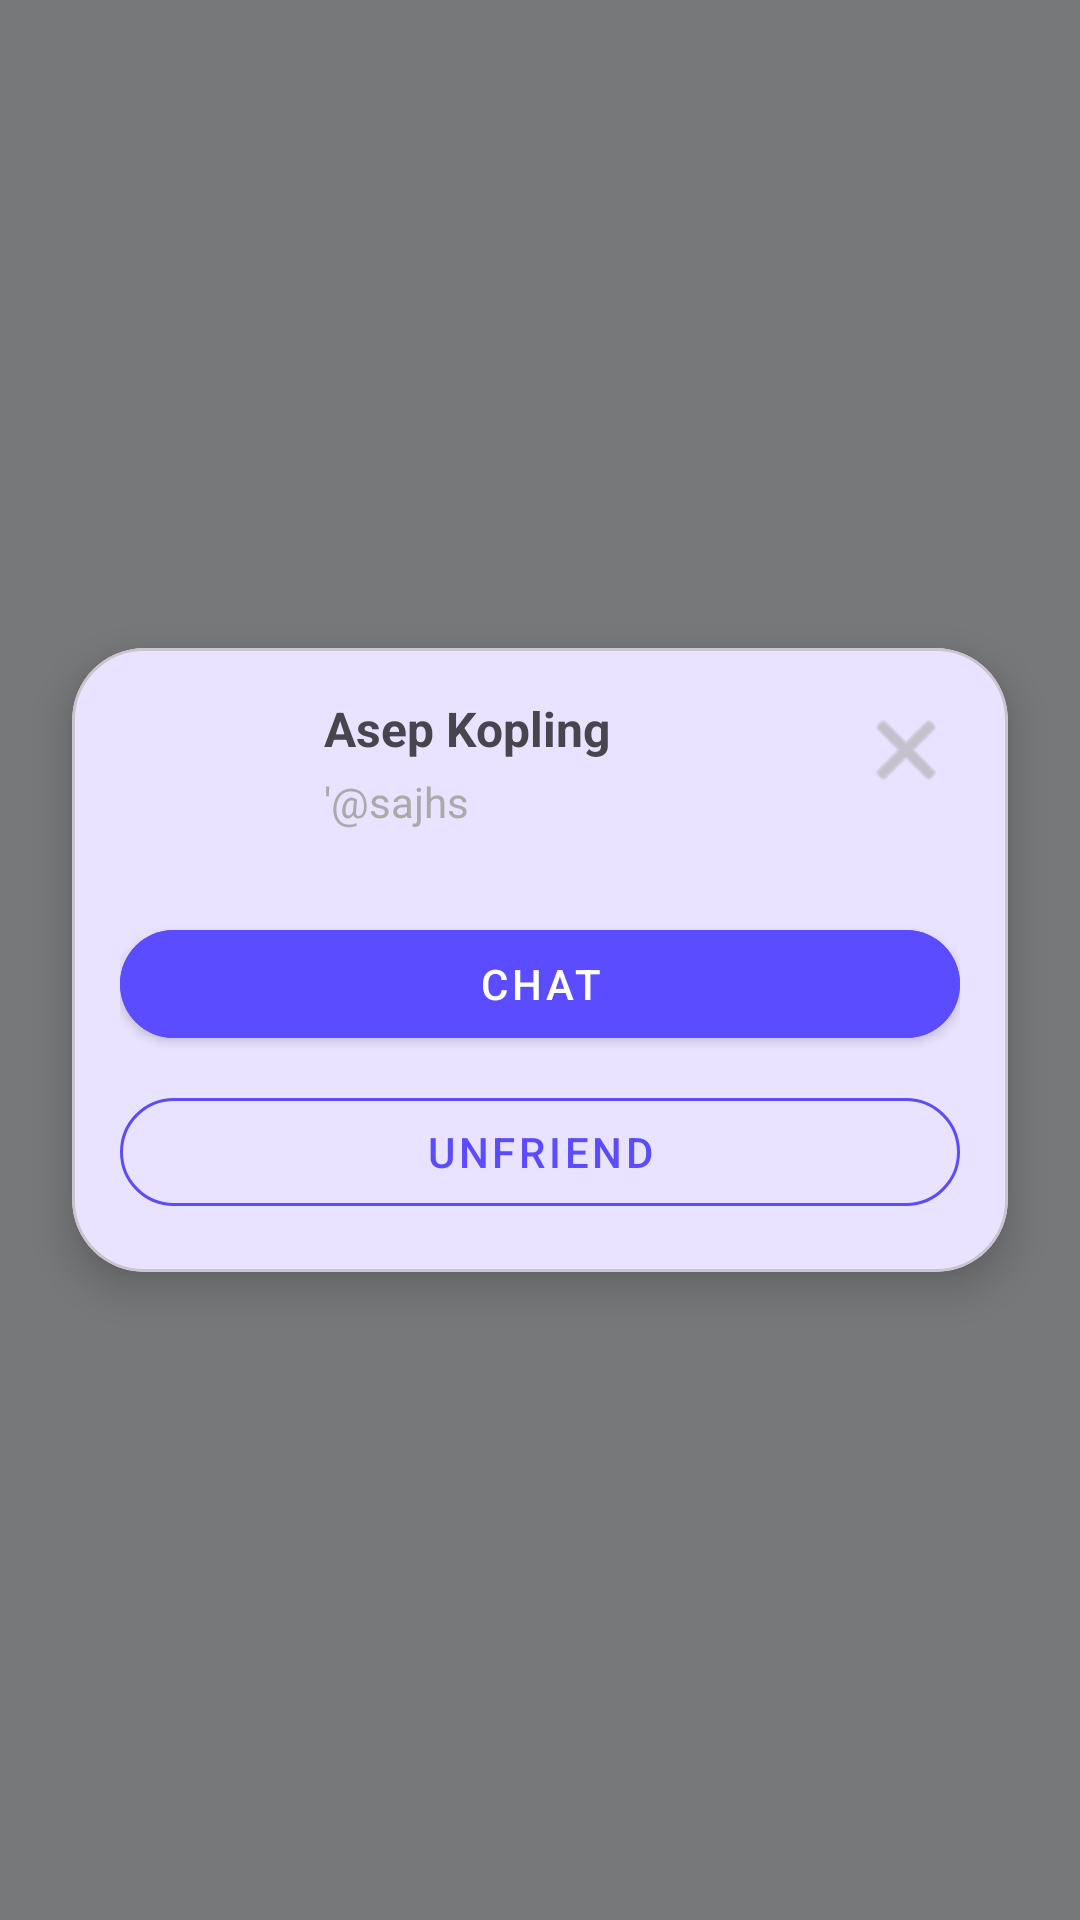

Locate icon controls on the screen. Image size 1080x1920, boxes as [x1=x1, y1=y1, x2=x2, y2=y2].
Close: [x1=877, y1=721, x2=935, y2=779]
